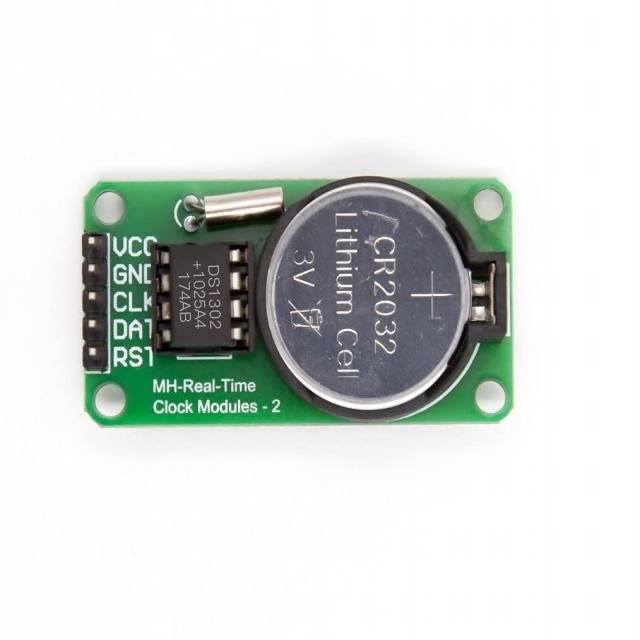IC: (140, 225, 265, 371)
battery: (272, 177, 494, 410)
clock Q1: (166, 177, 287, 223)
connector -5v-: (72, 217, 116, 370)
